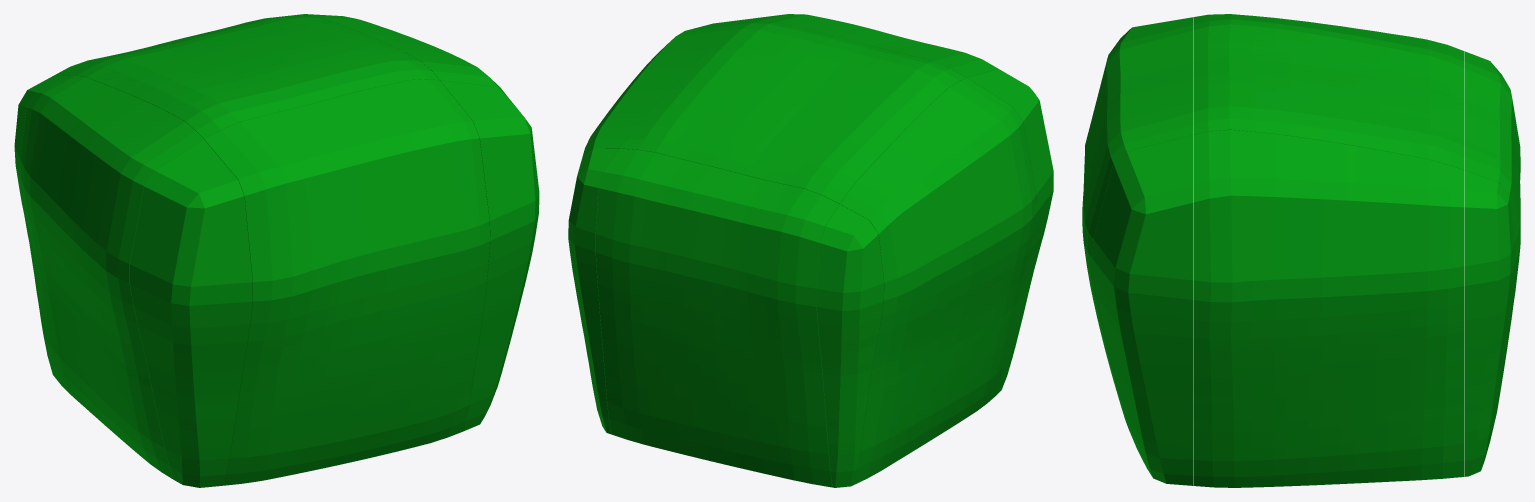
File: 4by10beveledsubdivided.015.fbx
3 views of the same model, side by side, from view 1: azimuth 30°, elevation 25°; view 2: azimuth 150°, elevation 25°; view 3: azimuth 270°, elevation 25° (orthographic). The views are drawn at different scales.
Parts seen in each view (by area): view 1: 4by10beveledsubdivided.015; view 2: 4by10beveledsubdivided.015; view 3: 4by10beveledsubdivided.015.
Part boxes in pixels (box(x1,y1,x2,y2)): 4by10beveledsubdivided.015: box(14, 14, 539, 487); 4by10beveledsubdivided.015: box(568, 14, 1053, 487); 4by10beveledsubdivided.015: box(1082, 14, 1520, 487).
Size of the model in its own units: 340 by 283 by 324.
